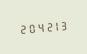four: (34, 20, 41, 34)
one: (50, 19, 57, 32)
three: (58, 18, 65, 32)
two: (17, 22, 24, 35), (42, 20, 49, 33)
zero: (25, 21, 32, 34)
